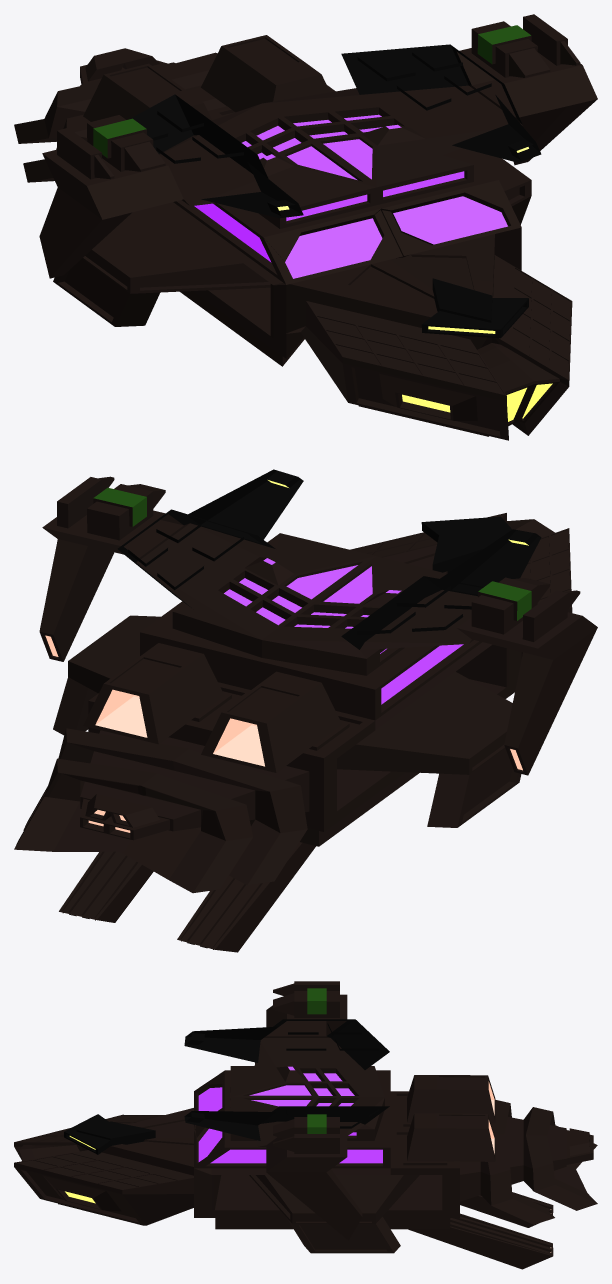
File: Spaceship.fbx
The picture shows the model from 3 angles, top to bottom: view 1: azimuth 30°, elevation 25°; view 2: azimuth 150°, elevation 25°; view 3: azimuth 270°, elevation 25°; orthographic projection. The views are drawn at different scales.
Parts seen in each view (by area): view 1: Cube; view 2: Cube; view 3: Cube.
Boxes of the visible parts, box(x1,y1,x2,y2) form: Cube: box(14, 14, 597, 440); Cube: box(14, 469, 597, 952); Cube: box(14, 981, 597, 1269).
Bounding box in the file's own units: 421 × 225 × 640.
